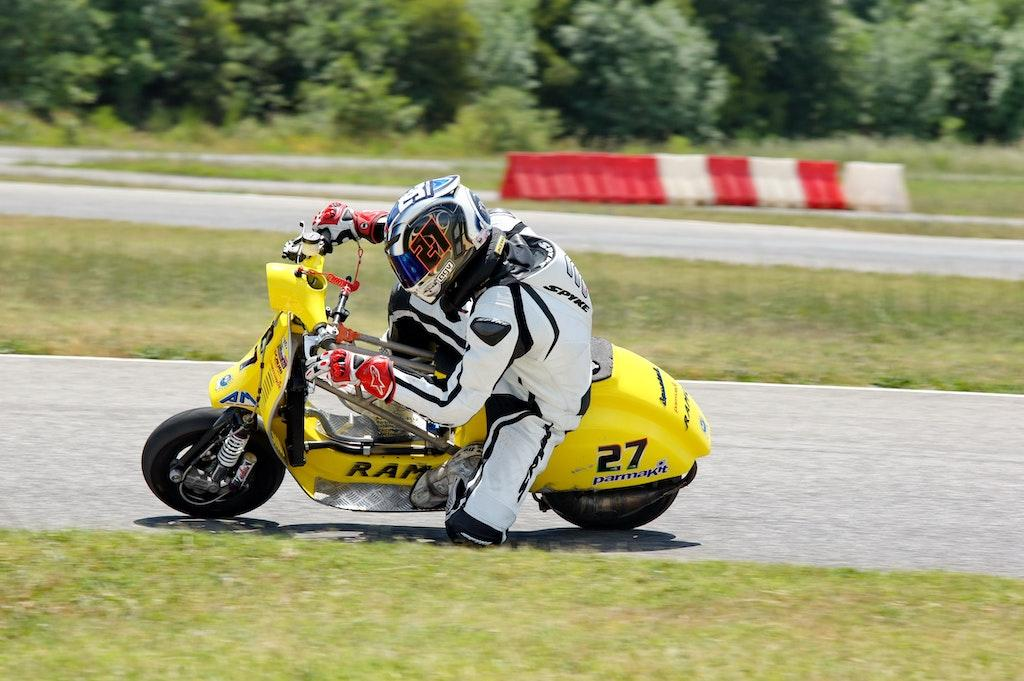helmet: (383, 173, 493, 306)
